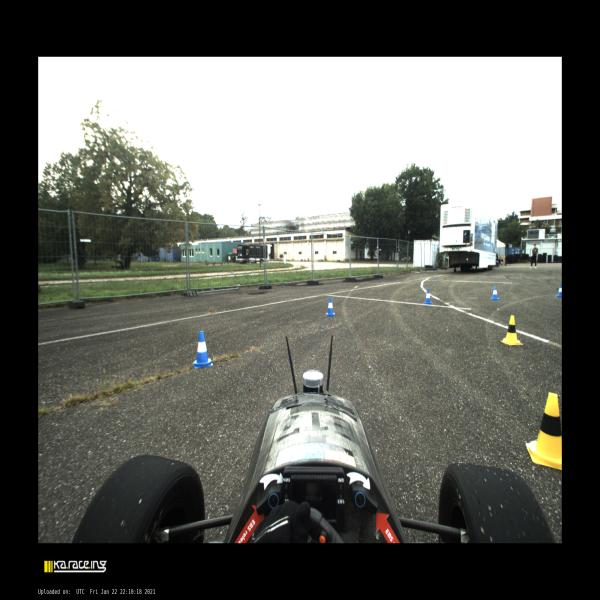blue_cone: (193, 331, 213, 369), (326, 296, 335, 317), (423, 289, 433, 305), (491, 286, 499, 300), (555, 284, 562, 297)
yellow_cone: (526, 392, 561, 471), (500, 315, 523, 346)
